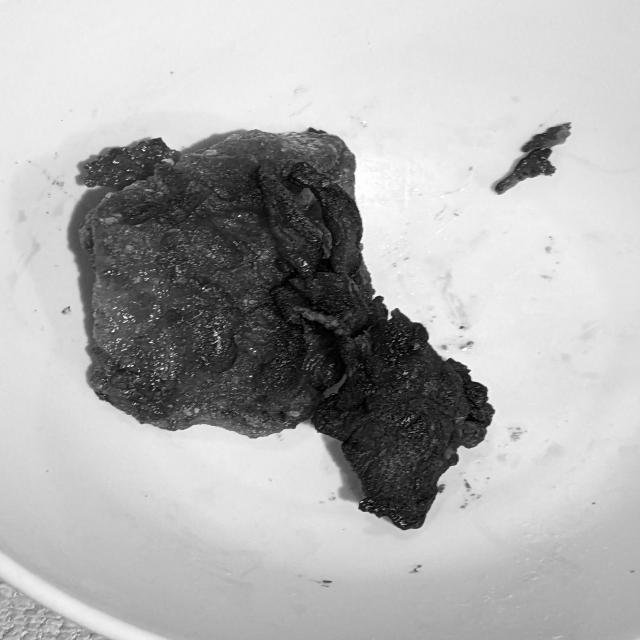overcooked pork: (65, 115, 511, 541)
